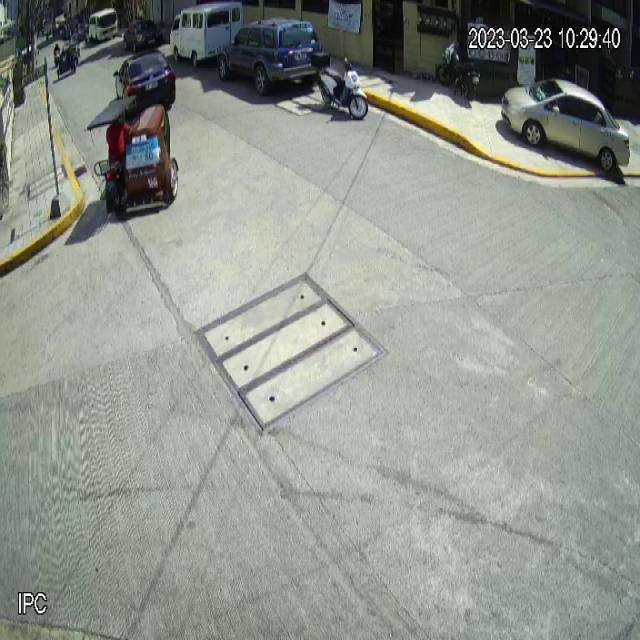Car: (501, 76, 631, 172), (217, 18, 323, 95)
Motorcycle: (311, 50, 368, 120)
Tricycle: (87, 99, 178, 220)
Van: (169, 1, 243, 68)
